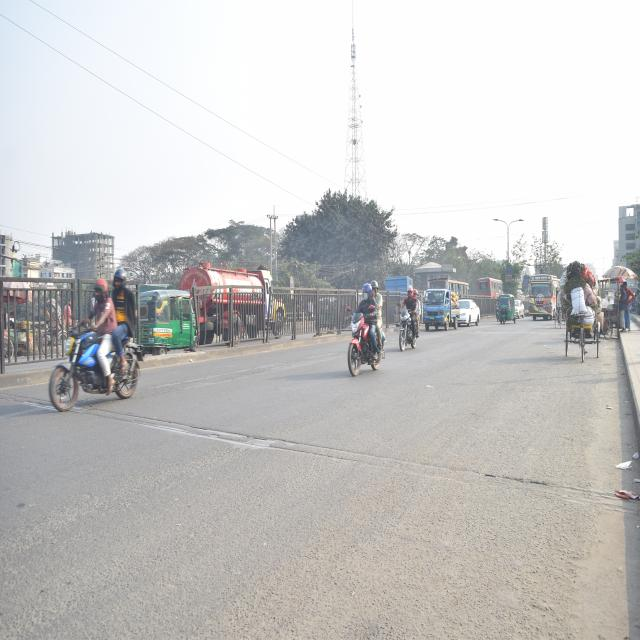bus: (526, 274, 557, 321)
car: (459, 298, 481, 328), (513, 293, 526, 320)
motorbike: (29, 302, 151, 423), (338, 294, 386, 383), (394, 294, 422, 359)
pickup-van: (424, 283, 459, 334)
